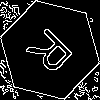R: (25, 25, 82, 84)
